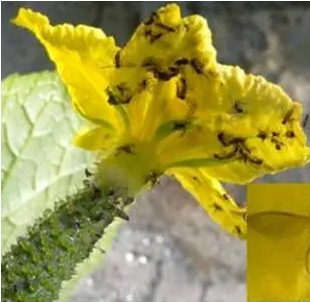thrips: (142, 54, 204, 100), (213, 130, 264, 166), (142, 10, 176, 45), (258, 127, 296, 151), (106, 81, 133, 106), (281, 103, 295, 125), (111, 49, 125, 70), (232, 100, 243, 113)
